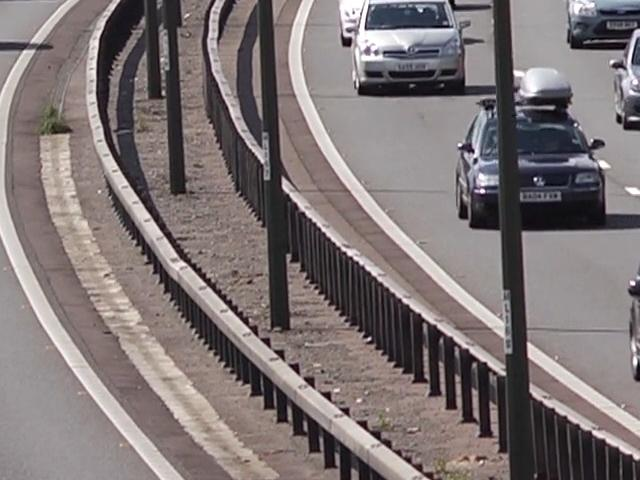car: (448, 62, 607, 227), (350, 0, 473, 93), (566, 0, 640, 53), (611, 24, 640, 131)
